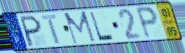2: (118, 8, 144, 42)
L: (88, 11, 116, 42)
M: (62, 10, 98, 46)
P: (134, 6, 160, 41), (20, 14, 43, 48)
T: (40, 13, 61, 45)
